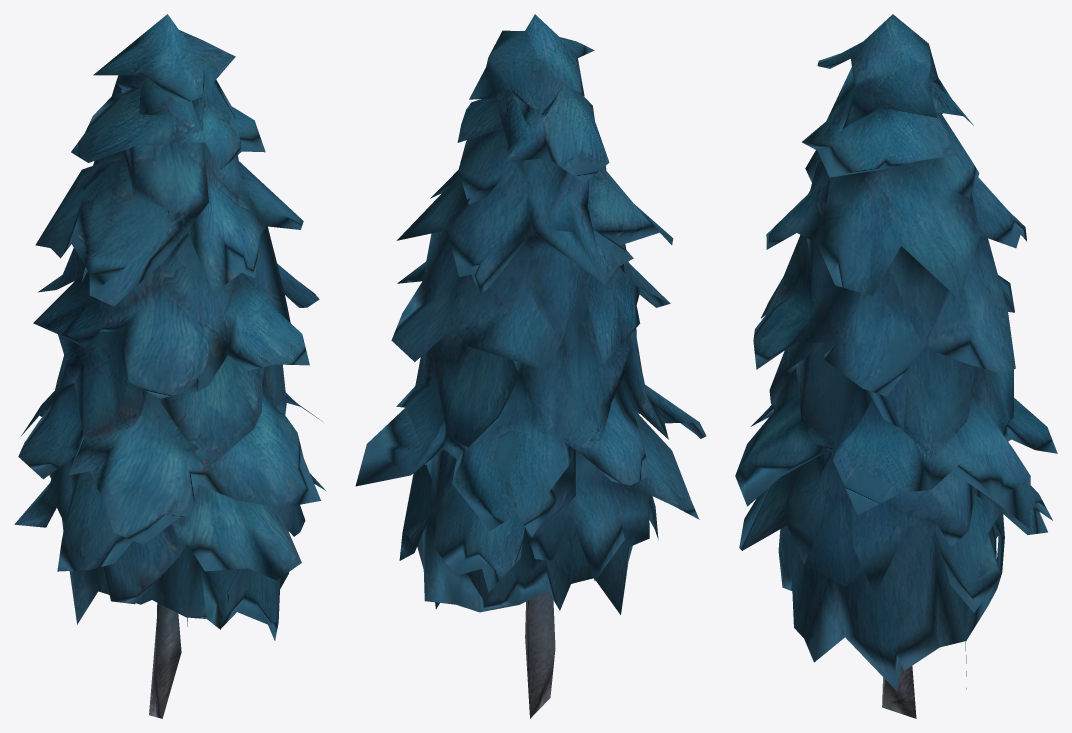
The model's file is Tree - Pine v2-D0ekO6js.glb.
3 renders of one model, left to right at view 1: azimuth 30°, elevation 25°; view 2: azimuth 150°, elevation 25°; view 3: azimuth 270°, elevation 25°, orthographic.
Visible parts, largest first — view 1: tripo_node_6084b473-070b-4078-95e6-e93ea2c936c2; view 2: tripo_node_6084b473-070b-4078-95e6-e93ea2c936c2; view 3: tripo_node_6084b473-070b-4078-95e6-e93ea2c936c2.
Part boxes in pixels (x1,y1,x2,y2): tripo_node_6084b473-070b-4078-95e6-e93ea2c936c2: (14,14,325,718); tripo_node_6084b473-070b-4078-95e6-e93ea2c936c2: (355,14,706,718); tripo_node_6084b473-070b-4078-95e6-e93ea2c936c2: (735,14,1057,718).
Size of the model in its own units: 0.4274 by 1 by 0.4128.
Materials: 1 (1 with a texture image).
